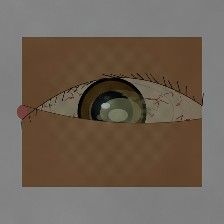corneal_ulcer: (87, 86, 154, 139)
